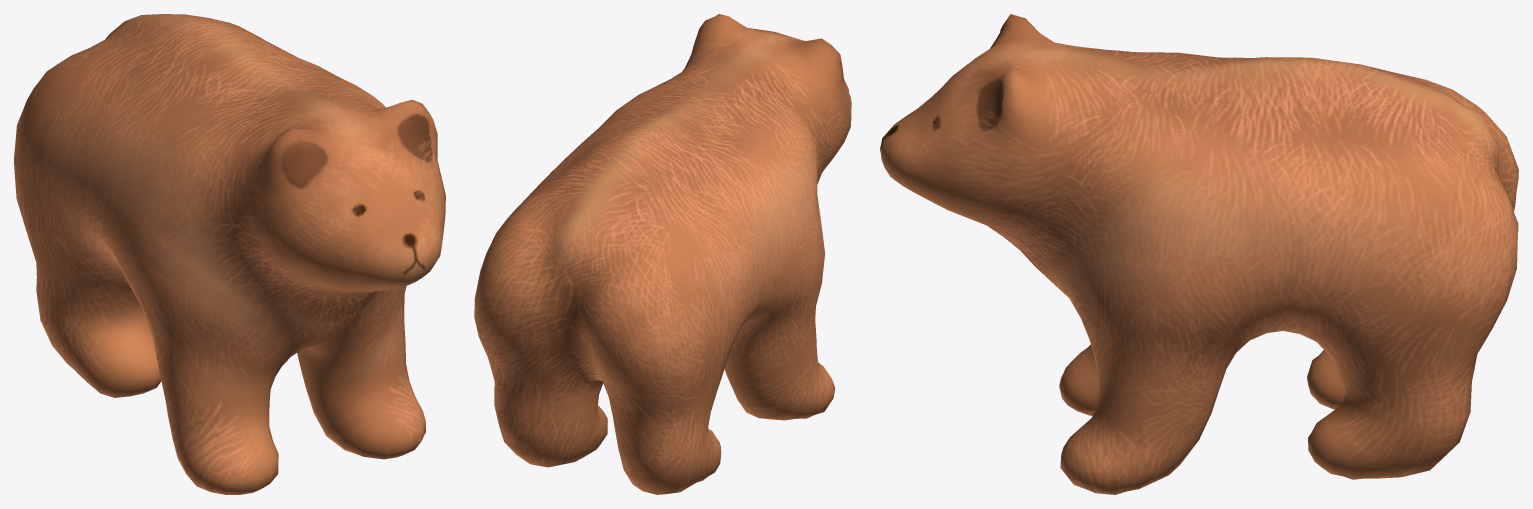
The model's file is bear-scale.fbx.
3 renders of one model, left to right at view 1: azimuth 30°, elevation 25°; view 2: azimuth 150°, elevation 25°; view 3: azimuth 270°, elevation 25°, orthographic. The views are drawn at different scales.
Visible parts, largest first — view 1: lp_1502; view 2: lp_1502; view 3: lp_1502.
Part boxes in pixels (x1,y1,x2,y2): lp_1502: (14,14,445,494); lp_1502: (474,14,851,494); lp_1502: (880,14,1518,494).
Size of the model in its own units: 17.11 by 34.31 by 23.93.
Materials: 1 (1 with a texture image).
